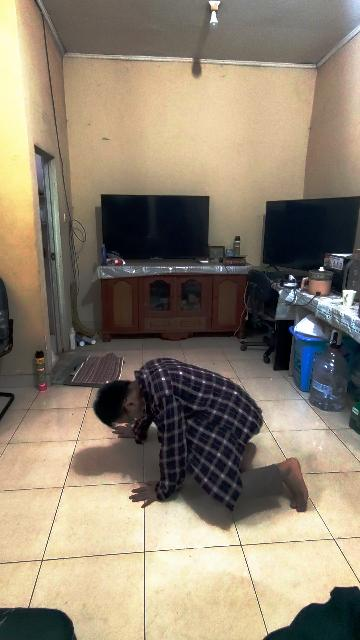jatuh: (96, 360, 318, 520)
